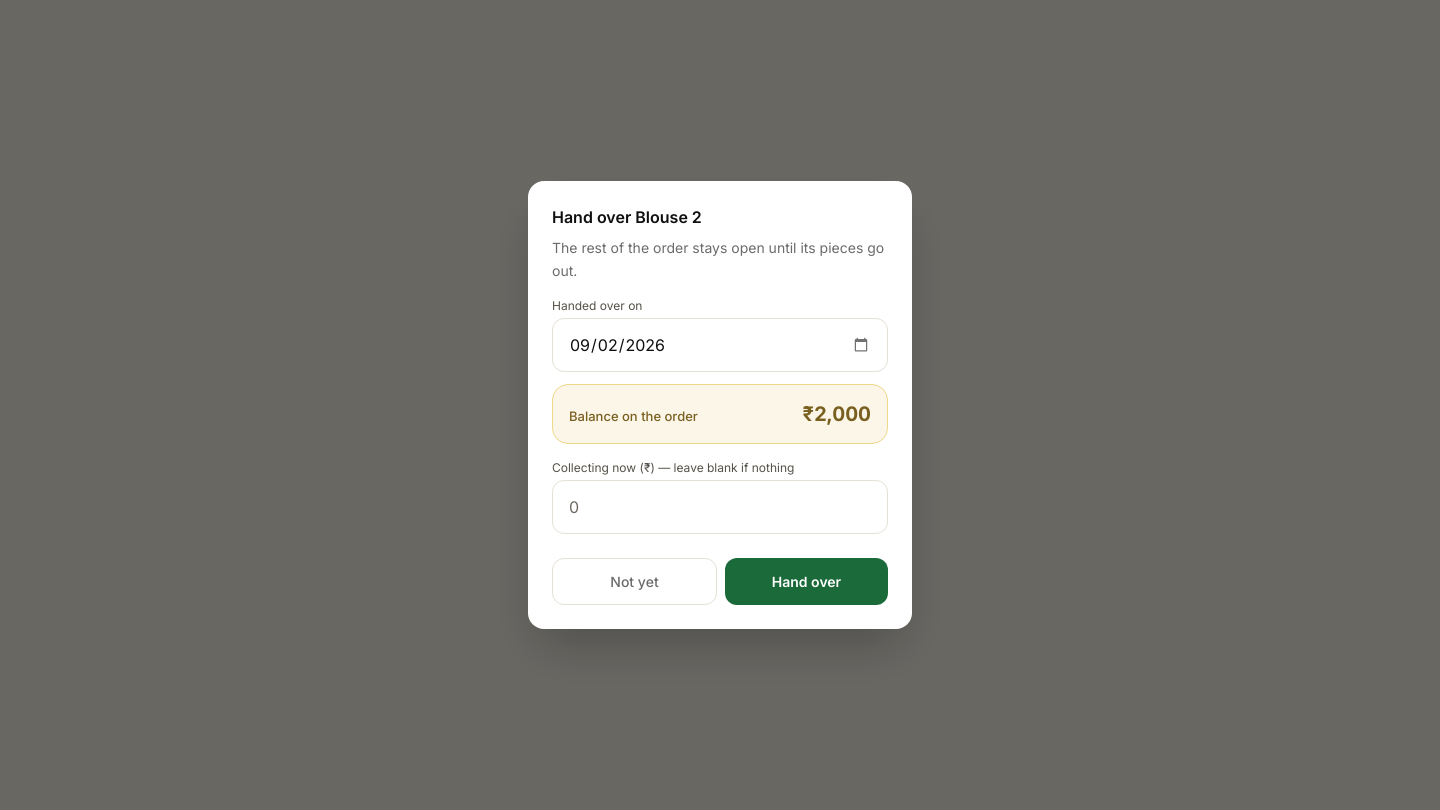
Test: DeliverPieceDialog › the hand-over date › refuses a future date
Type "2099-01-01" into the date field labelled "Handed over on" at (720, 345), box [552, 318, 888, 372]
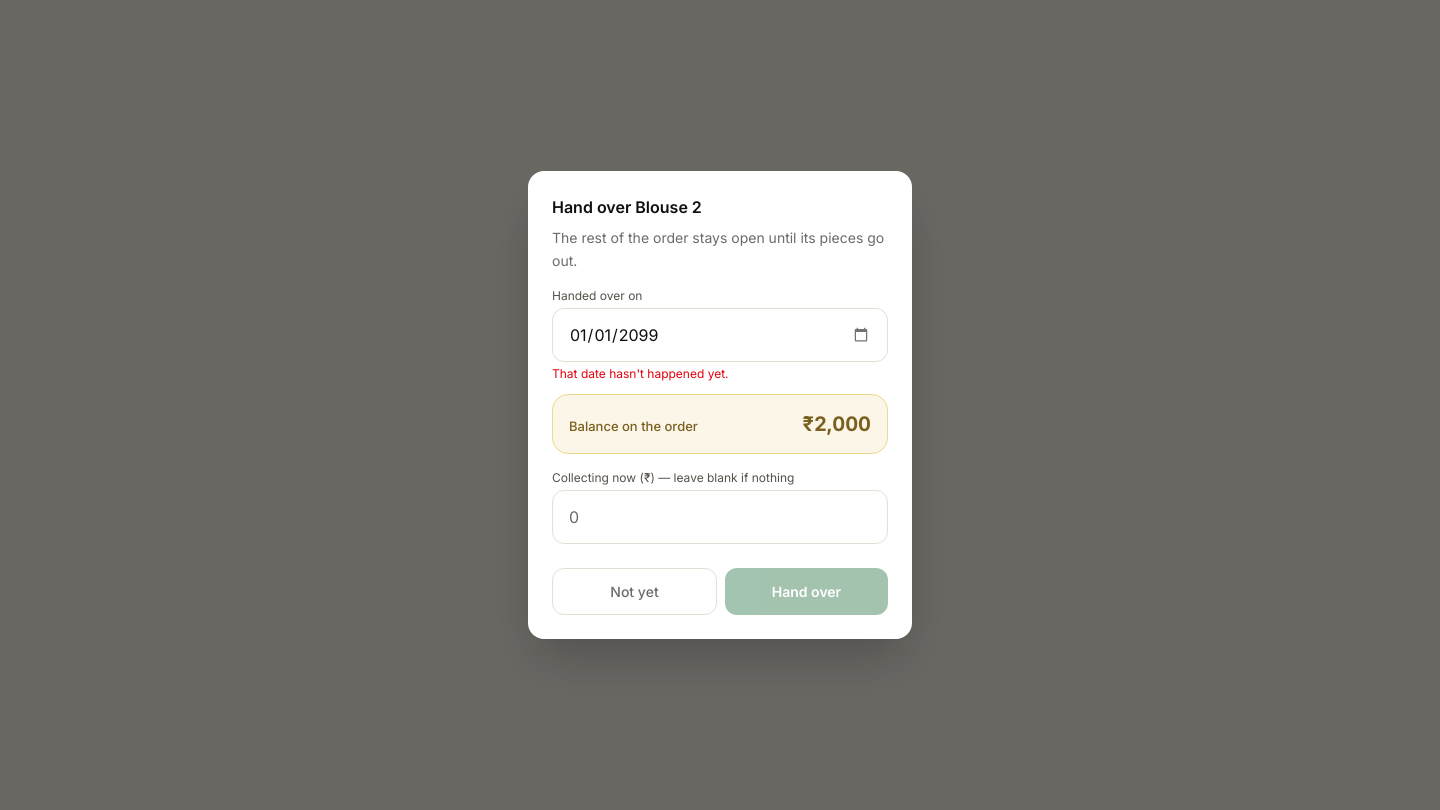
Expected: the text "That date hasn't happened yet." is shown, [552, 366, 728, 381]
Expected: the button "Hand over" is disabled, [725, 568, 888, 615]
